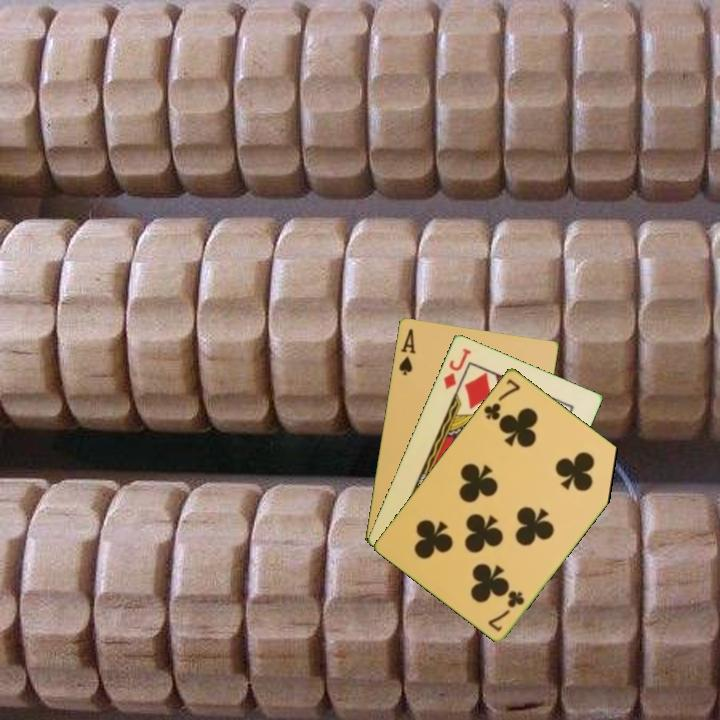7c: (484, 586, 528, 634), (480, 375, 523, 423)
As: (395, 325, 418, 378)
Jd: (440, 344, 474, 392)
